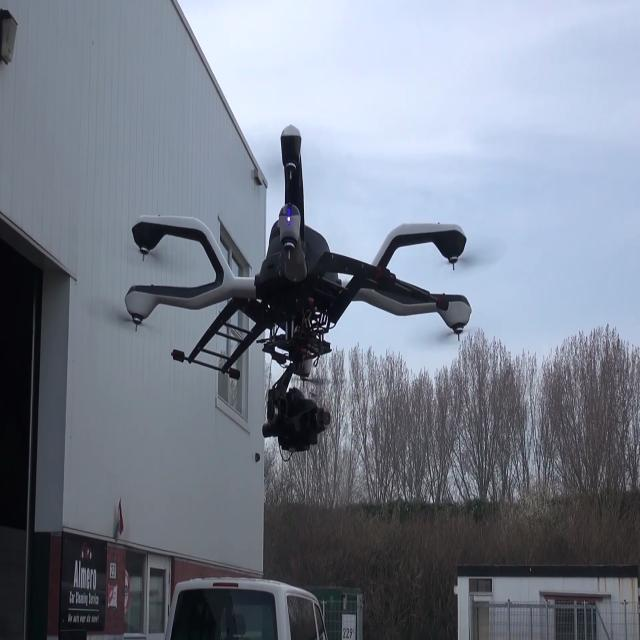drone: (131, 143, 483, 476)
